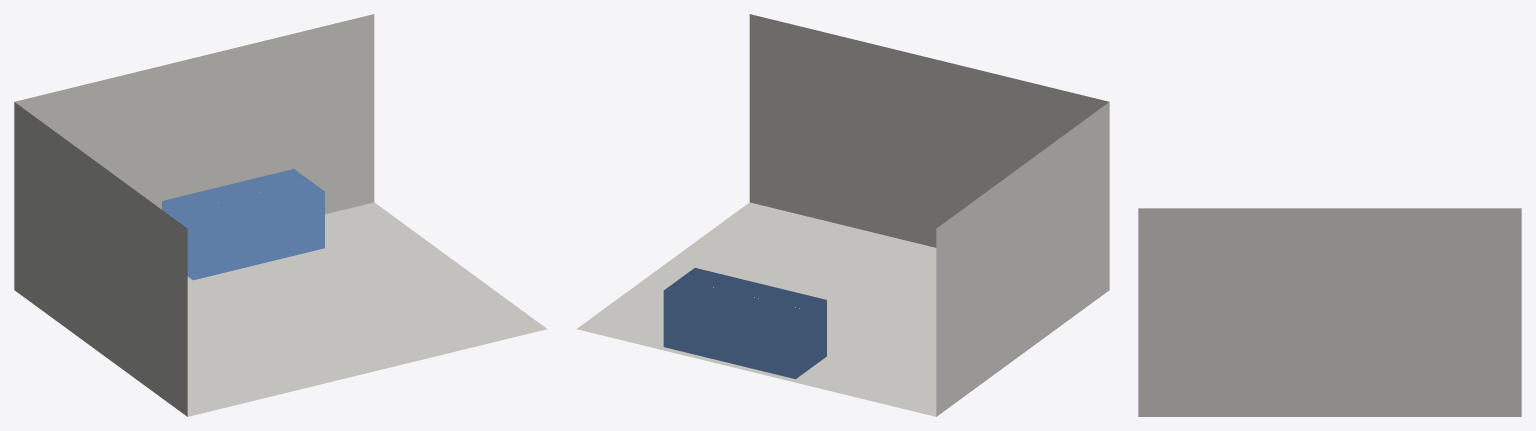
The picture shows the model from 3 angles, left to right: view 1: azimuth 30°, elevation 25°; view 2: azimuth 150°, elevation 25°; view 3: azimuth 270°, elevation 25°; orthographic projection. The views are drawn at different scales.
Parts seen in each view (by area): view 1: Room, blue_sofa_mesh; view 2: Room, blue_sofa_mesh; view 3: Room.
Boxes of the visible parts, bbox=[...] form: Room: bbox=[14, 14, 547, 416]; blue_sofa_mesh: bbox=[162, 169, 324, 280]; Room: bbox=[576, 14, 1109, 416]; blue_sofa_mesh: bbox=[663, 268, 826, 379]; Room: bbox=[1138, 208, 1521, 416].
Size of the model in its own units: 6 by 3 by 5.
